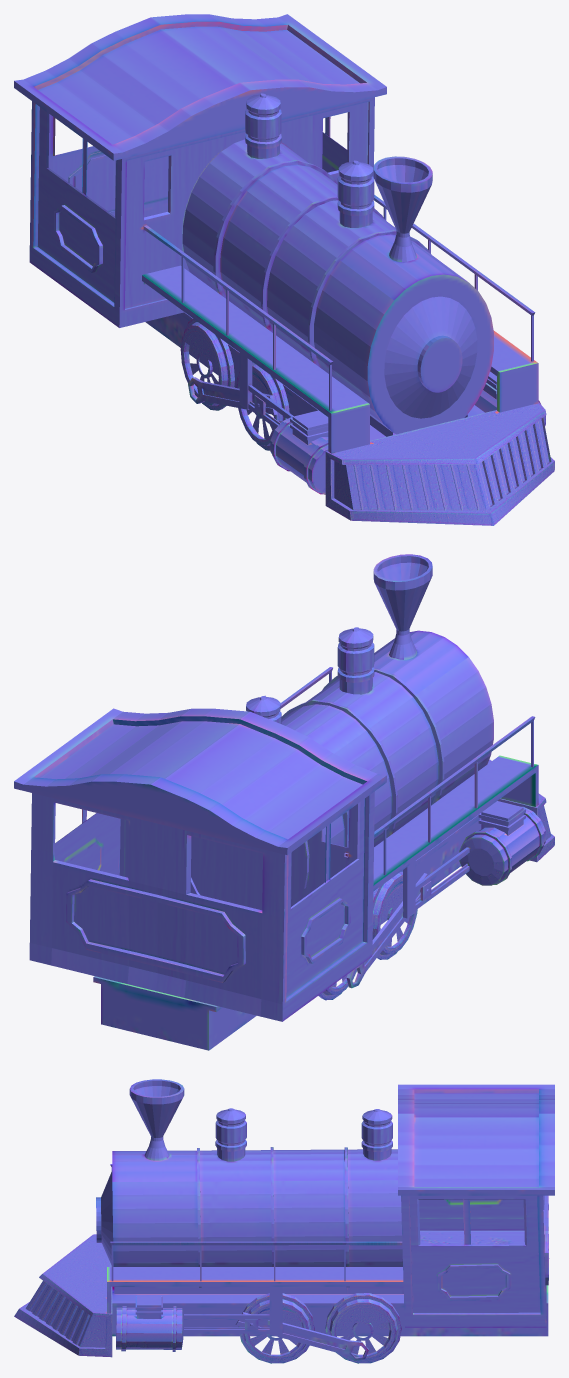
Rendered from Locomotora.obj.
3 renders of one model, top to bottom at view 1: azimuth 30°, elevation 25°; view 2: azimuth 150°, elevation 25°; view 3: azimuth 270°, elevation 25°, orthographic. The views are drawn at different scales.
Visible parts, largest first — view 1: defaultMaterial_lambert1_001; view 2: defaultMaterial_lambert1_001; view 3: defaultMaterial_lambert1_001.
Boxes of the visible parts, left/top/right/bottom form: defaultMaterial_lambert1_001: left=14, top=14, right=554, bottom=525; defaultMaterial_lambert1_001: left=14, top=554, right=554, bottom=1050; defaultMaterial_lambert1_001: left=14, top=1079, right=554, bottom=1363.
Size of the model in its own units: 7.84 by 8.67 by 17.02.
